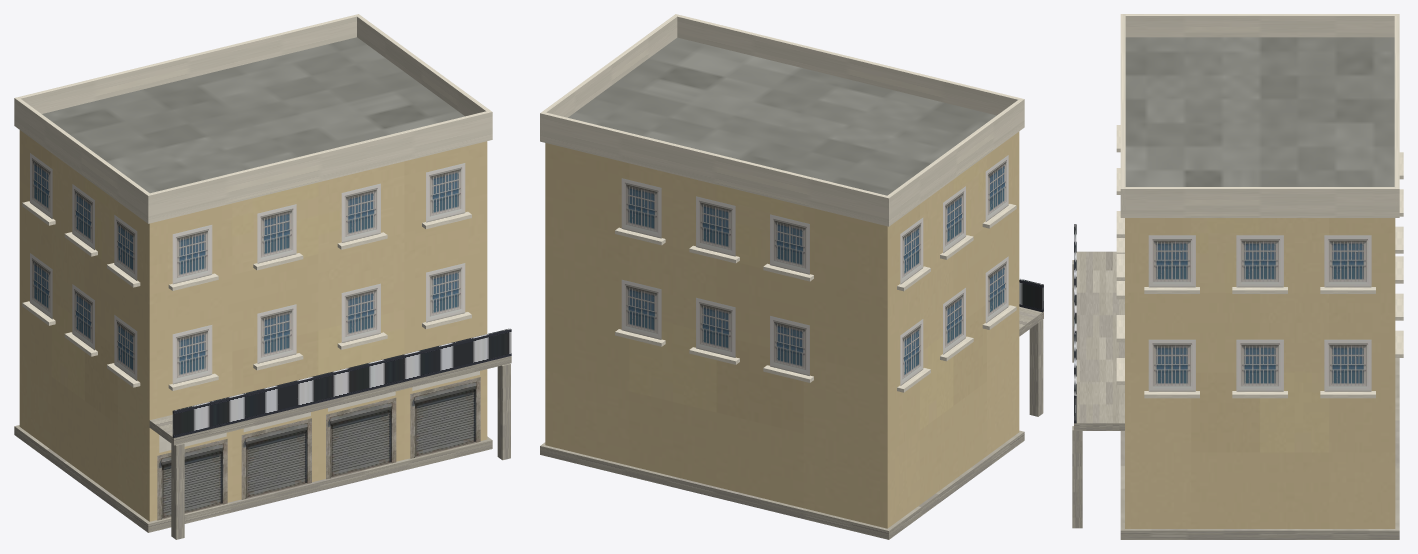
The model's file is shops-cream.glb.
The picture shows the model from 3 angles, left to right: view 1: azimuth 30°, elevation 25°; view 2: azimuth 150°, elevation 25°; view 3: azimuth 270°, elevation 25°; orthographic projection. The views are drawn at different scales.
Visible parts, largest first — view 1: shops-cream; view 2: shops-cream; view 3: shops-cream.
Boxes of the visible parts, bbox=[...] form: shops-cream: bbox=[14, 14, 511, 539]; shops-cream: bbox=[540, 14, 1043, 539]; shops-cream: bbox=[1072, 14, 1403, 539].
Size of the model in its own units: 12.48 by 11.45 by 9.79.
Materials: 1 (1 with a texture image).
